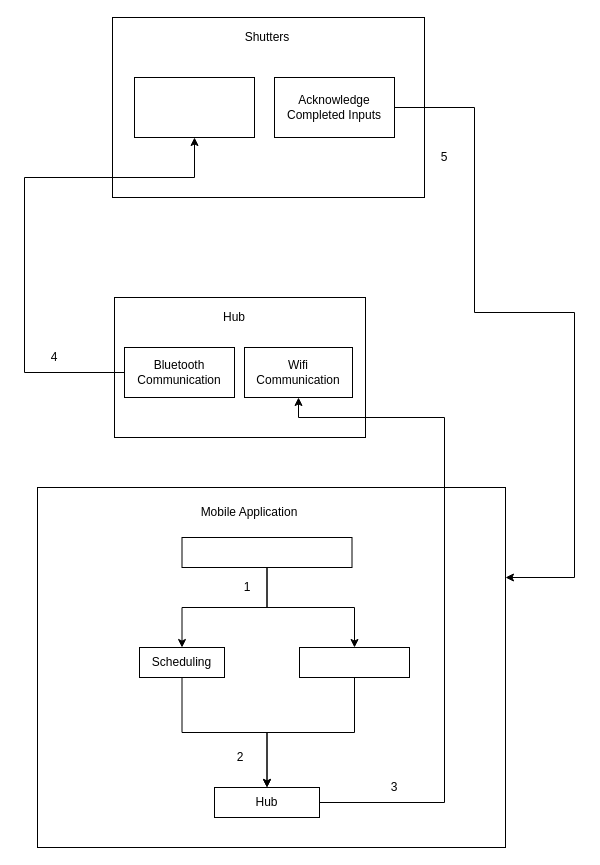
The diagram is 600 pixels wide and 865 high, and some of its shapes have lost their labels. Each missing label, with the box of its shape:
communication: (298, 646, 410, 678)
Mobile Device Communication: (181, 536, 352, 568)
Motor commands: (134, 76, 254, 138)
